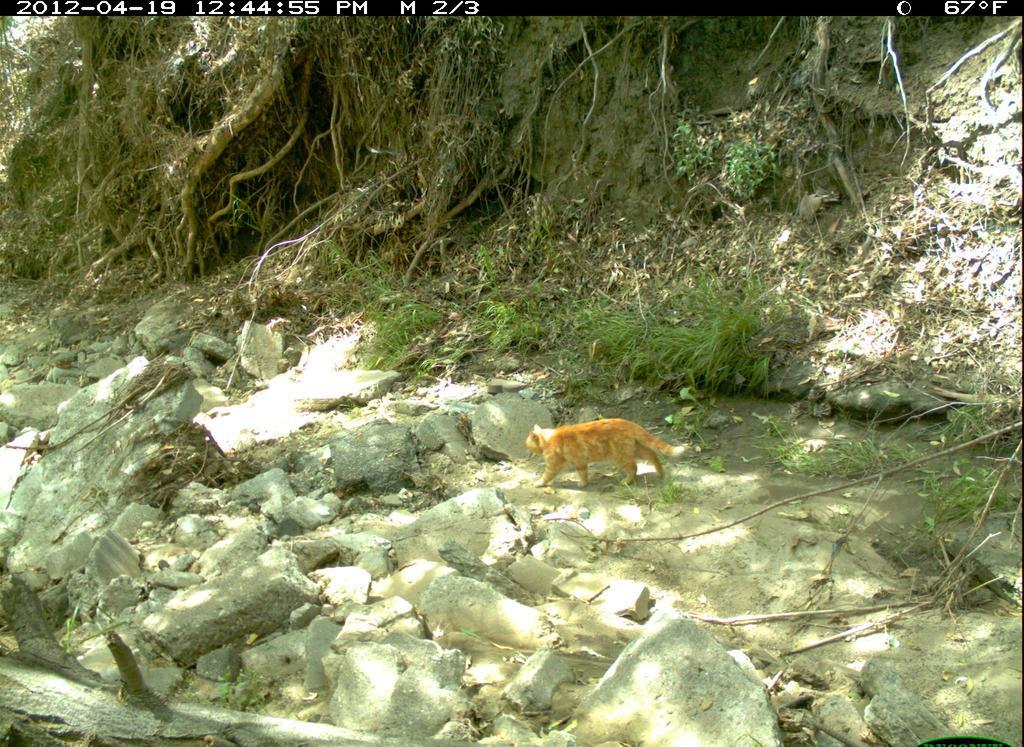cat: (510, 406, 712, 518)
